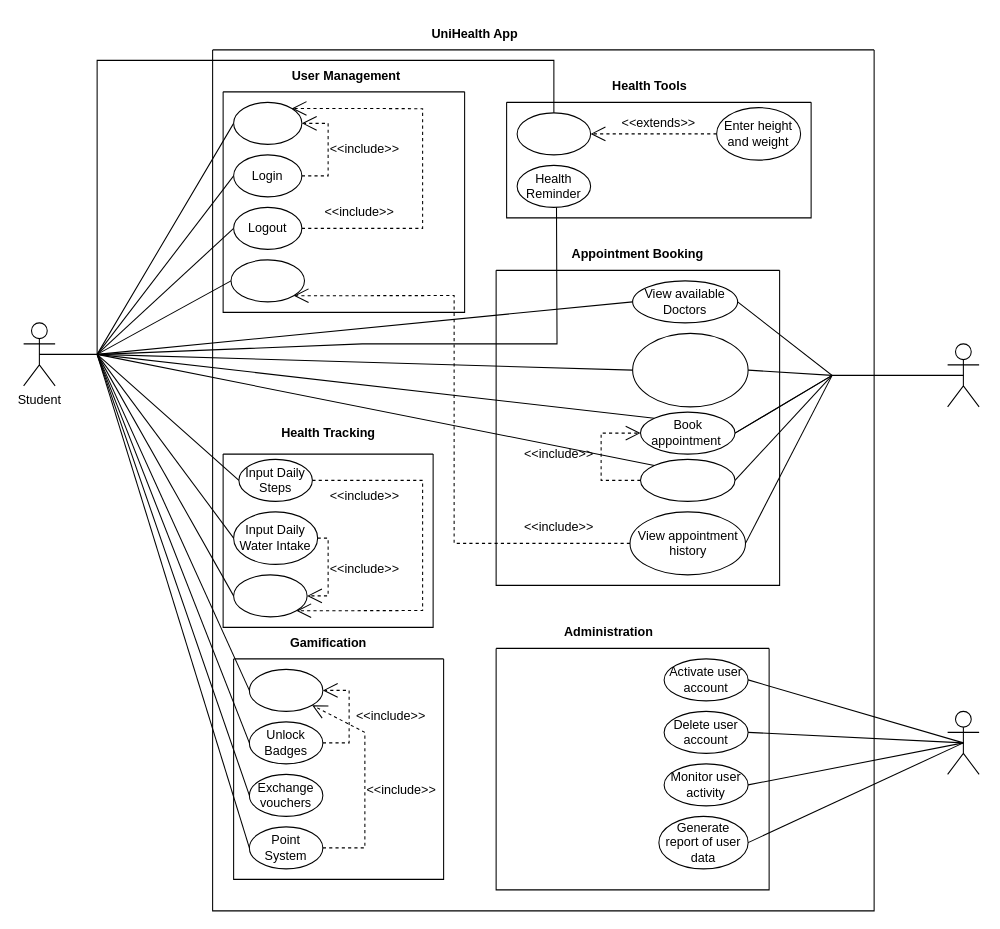
Image size: 1000x929. Some labels were removed from this diagram. The centre of each missing label's shape, as x and y in pixels:
Admin: the point at 963,742
Calculate BMI: the point at 553,133
Cancel appointment: the point at 687,479
Daily goals: the point at 285,689
Doctor: the point at 963,375
Manage Profile: the point at 267,280
Register: the point at 267,122
View available appointment dates and time slots: the point at 690,369
View HealthBa r: the point at 270,595
